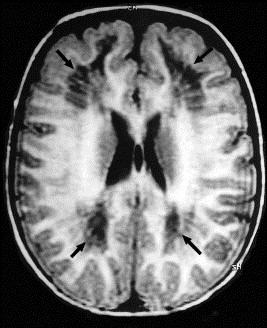Normal_Brain: (1, 1, 267, 328)
